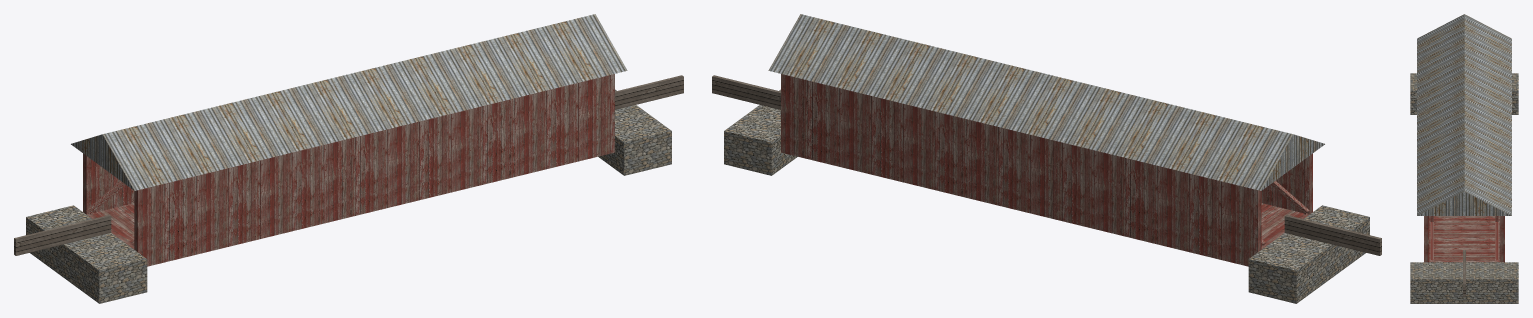
Rendered from covered-bridge_lod0.gltf.
The picture shows the model from 3 angles, left to right: view 1: azimuth 30°, elevation 25°; view 2: azimuth 150°, elevation 25°; view 3: azimuth 270°, elevation 25°; orthographic projection. The views are drawn at different scales.
Visible parts, largest first — view 1: covered-bridge_roof, covered-bridge_walls, covered-bridge_abutments, covered-bridge_deck, covered-bridge__guard_rail_a, covered-bridge__guard_rail_b; view 2: covered-bridge_roof, covered-bridge_walls, covered-bridge_abutments, covered-bridge_deck, covered-bridge__guard_rail_a, covered-bridge__guard_rail_b; view 3: covered-bridge_roof, covered-bridge_abutments, covered-bridge_deck, covered-bridge_walls, covered-bridge__truss, covered-bridge__guard_rail_b.
Boxes of the visible parts, x1,y1,x2,y2 form: covered-bridge_roof: [71, 14, 627, 190]; covered-bridge_walls: [83, 74, 614, 252]; covered-bridge_abutments: [26, 89, 671, 303]; covered-bridge_deck: [87, 136, 614, 266]; covered-bridge__guard_rail_a: [14, 215, 111, 255]; covered-bridge__guard_rail_b: [615, 75, 683, 109]; covered-bridge_roof: [768, 14, 1324, 190]; covered-bridge_walls: [781, 74, 1312, 252]; covered-bridge_abutments: [724, 89, 1369, 303]; covered-bridge_deck: [781, 136, 1308, 266]; covered-bridge__guard_rail_a: [1284, 215, 1381, 255]; covered-bridge__guard_rail_b: [712, 75, 780, 109]; covered-bridge_roof: [1417, 14, 1511, 215]; covered-bridge_abutments: [1410, 73, 1518, 303]; covered-bridge_deck: [1429, 216, 1499, 262]; covered-bridge_walls: [1424, 216, 1504, 262]; covered-bridge__truss: [1430, 216, 1498, 260]; covered-bridge__guard_rail_b: [1463, 250, 1465, 296].
Bounding box in the file's own units: 42 × 8 × 8.
